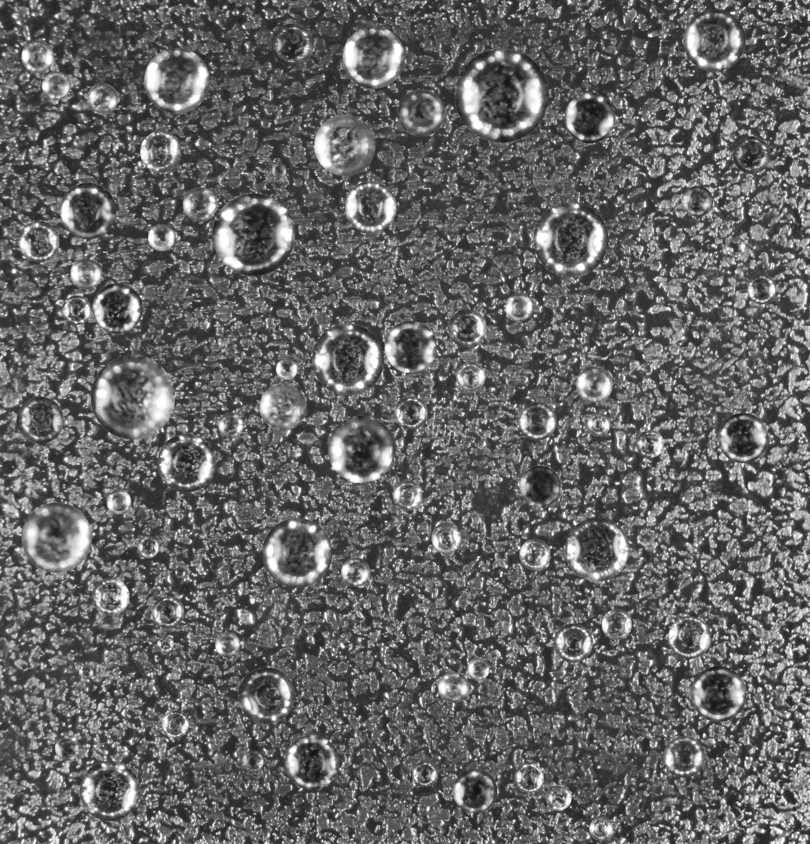Bubble: (454, 48, 548, 142), (90, 355, 174, 439), (212, 193, 294, 275), (533, 202, 608, 276), (312, 323, 383, 395), (21, 502, 91, 572), (262, 518, 332, 587), (327, 415, 395, 483), (144, 47, 209, 113), (565, 517, 629, 581), (683, 9, 745, 71), (342, 26, 404, 88), (314, 114, 375, 175), (79, 761, 139, 821), (157, 433, 215, 492), (238, 667, 294, 724), (59, 182, 115, 238), (691, 666, 746, 721), (284, 735, 339, 789), (384, 320, 436, 372), (564, 92, 615, 143), (345, 181, 396, 232), (718, 413, 768, 463), (92, 283, 142, 333), (397, 89, 444, 136), (16, 396, 63, 443), (259, 383, 306, 430), (452, 768, 497, 813), (668, 616, 710, 658), (271, 23, 313, 65), (18, 220, 59, 262), (519, 465, 560, 507), (663, 736, 705, 777), (140, 131, 181, 172), (553, 623, 592, 662), (448, 309, 486, 347), (518, 402, 556, 440), (91, 578, 129, 615), (733, 136, 770, 173), (576, 366, 612, 402), (182, 187, 216, 221), (394, 396, 427, 429), (151, 596, 184, 628), (21, 40, 53, 72), (70, 257, 102, 289), (682, 185, 713, 216), (519, 539, 550, 570), (87, 83, 117, 114), (438, 672, 468, 703), (431, 522, 461, 553), (392, 480, 422, 510), (601, 609, 631, 639), (61, 295, 91, 324), (514, 763, 544, 792), (747, 274, 776, 304), (41, 71, 70, 100), (341, 557, 370, 586), (456, 362, 485, 391), (161, 710, 188, 738), (505, 293, 532, 321), (636, 430, 664, 457), (147, 224, 174, 250), (412, 761, 437, 787), (545, 785, 571, 810), (54, 735, 80, 760), (218, 412, 243, 438), (215, 632, 240, 657), (106, 489, 131, 514), (589, 816, 613, 840), (587, 413, 610, 435), (467, 658, 489, 680), (137, 536, 159, 558), (275, 358, 297, 379), (725, 236, 746, 257), (242, 750, 263, 771), (704, 818, 724, 838), (156, 635, 173, 653), (78, 664, 93, 679), (271, 163, 286, 177), (174, 567, 185, 577)
